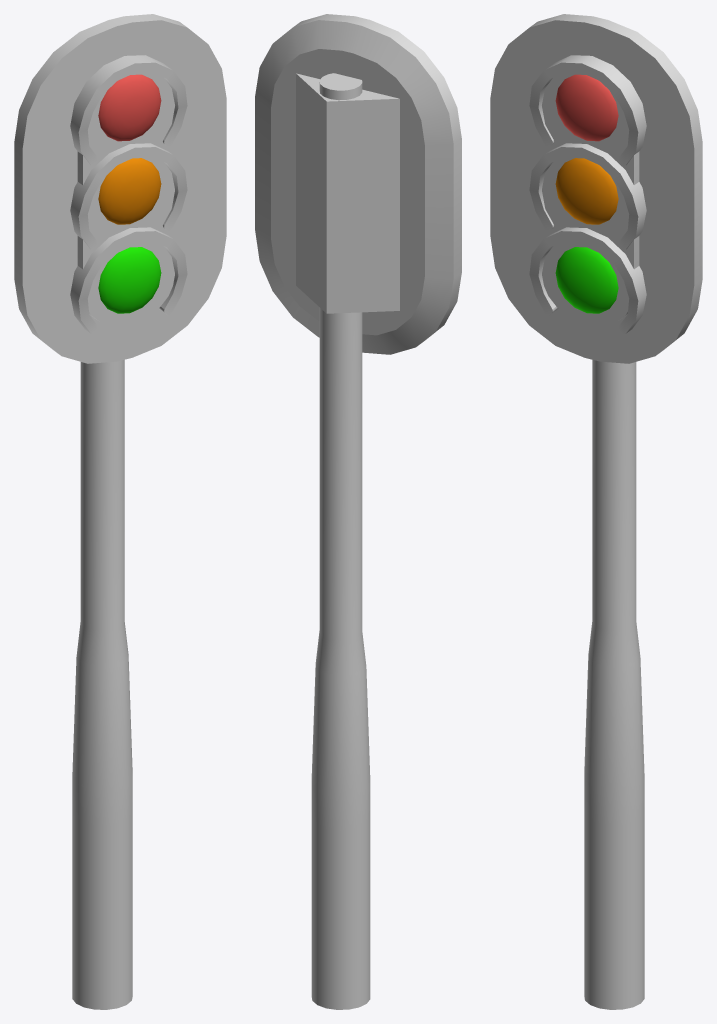
Rendered from verkeersligt (fiets zijkant) .fbx.
3 views of the same model, side by side, from view 1: azimuth 30°, elevation 25°; view 2: azimuth 150°, elevation 25°; view 3: azimuth 330°, elevation 25° (orthographic). The views are drawn at different scales.
Parts seen in each view (by area): view 1: verkeersligt (fiets/zijkant); view 2: verkeersligt (fiets/zijkant); view 3: verkeersligt (fiets/zijkant).
Part boxes in pixels (x1=…): verkeersligt (fiets/zijkant): x1=14, y1=14, x2=226, y2=1009; verkeersligt (fiets/zijkant): x1=255, y1=14, x2=461, y2=1009; verkeersligt (fiets/zijkant): x1=490, y1=14, x2=702, y2=1009.
Bounding box in the file's own units: 0.6691 × 3.1 × 0.2746.
